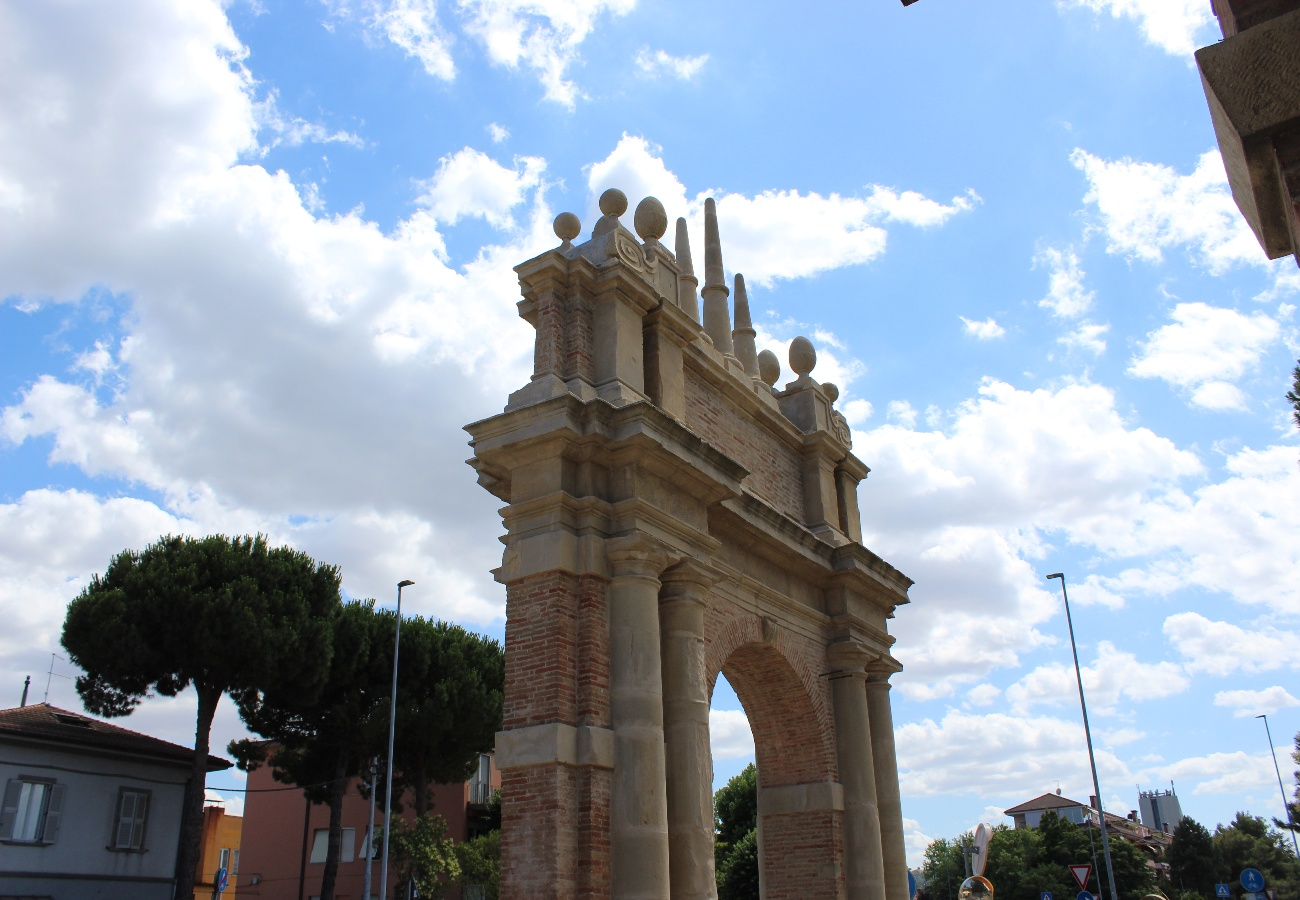Arco di Trionfo: (460, 188, 918, 900)
